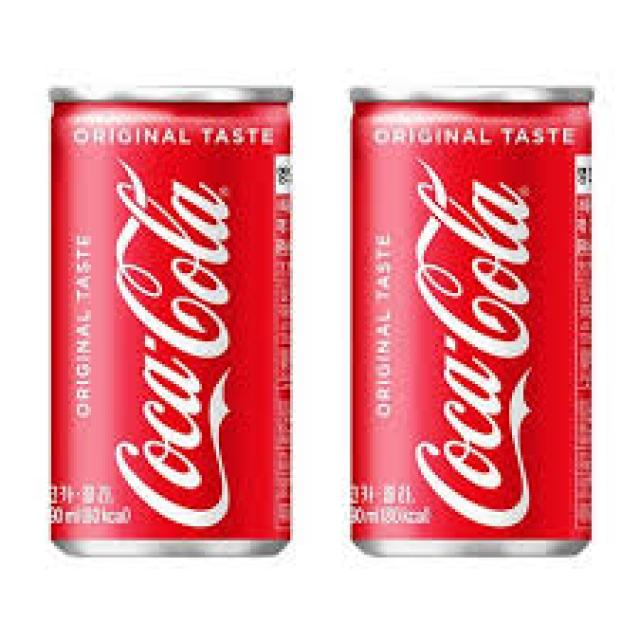Coca-Cola: (343, 76, 598, 566), (43, 78, 297, 568)
